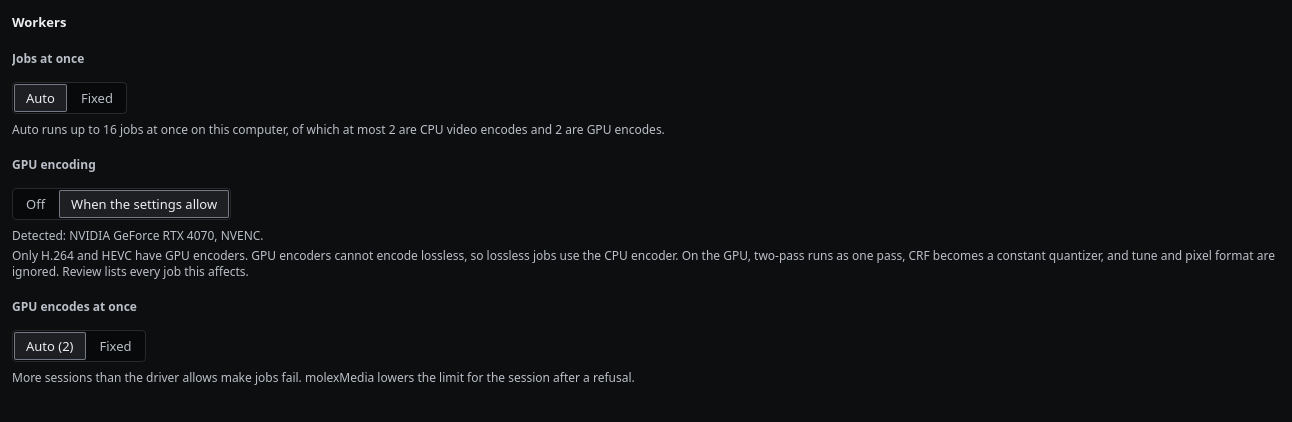
Test: WorkersPanel › shows a worker refusal inline
Click the 1st radio button labelled "Fixed": click(97, 98) [69,84,125,112]
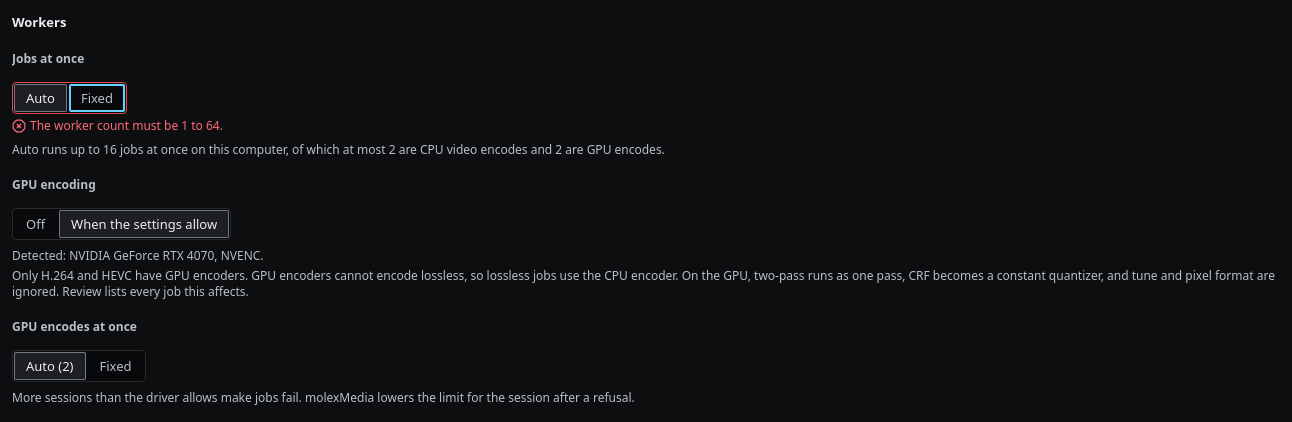
Expected: the text "The worker count must be 1 to 64." is shown, [30,118,223,134]
